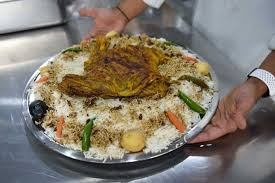kitchen_waste: (57, 42, 171, 98), (176, 89, 208, 117), (119, 125, 148, 154), (76, 118, 98, 152), (159, 110, 185, 137), (177, 72, 211, 90), (26, 99, 49, 121), (193, 59, 213, 78)
